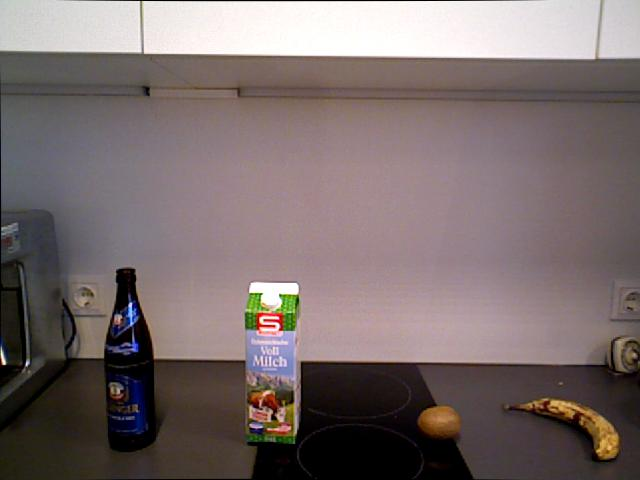bench: (242, 279, 304, 447), (103, 266, 157, 452)
giraffe: (603, 332, 640, 379)
motorcycle: (502, 396, 620, 461)
